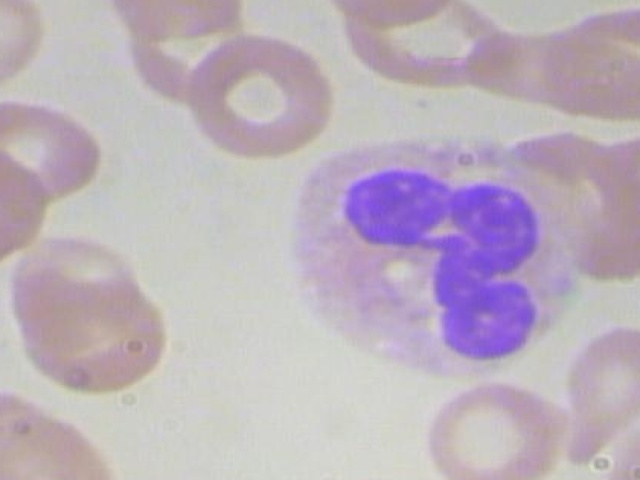RBC: (175, 33, 359, 162), (0, 271, 180, 400), (411, 381, 584, 480), (558, 321, 640, 478), (539, 0, 640, 123), (0, 399, 148, 480), (0, 143, 75, 272), (96, 0, 273, 48), (0, 0, 66, 89)
WBC: (264, 135, 596, 383)
